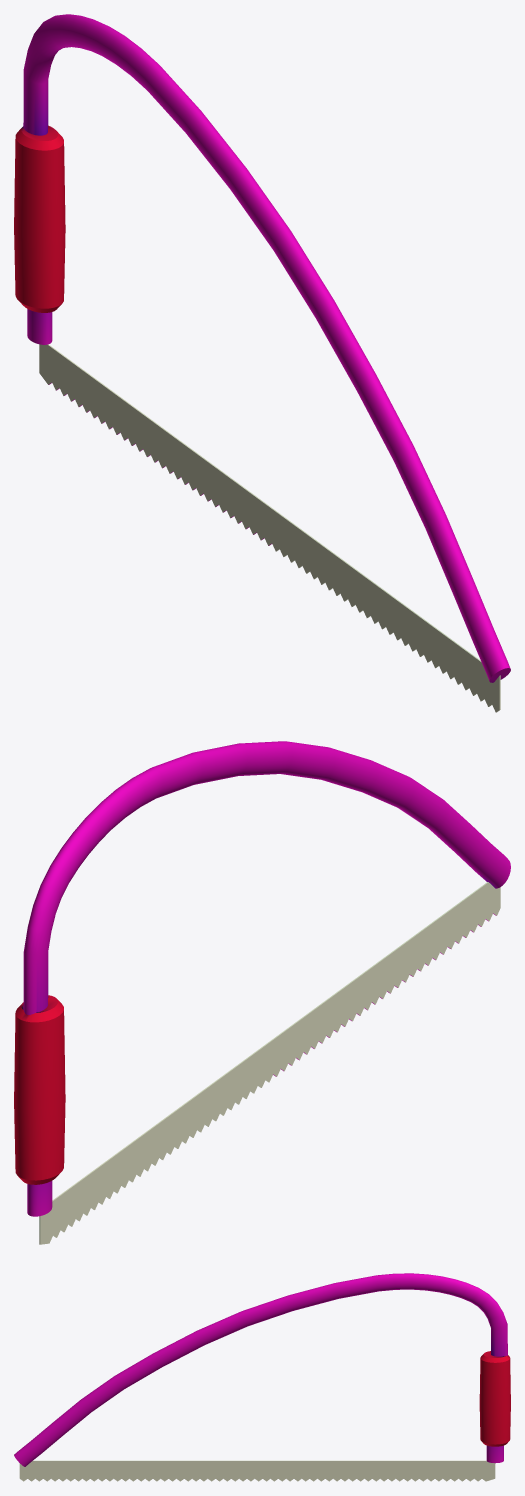
File: bow_saw.glb
The picture shows the model from 3 angles, top to bottom: view 1: azimuth 30°, elevation 25°; view 2: azimuth 150°, elevation 25°; view 3: azimuth 270°, elevation 25°; orthographic projection. The views are drawn at different scales.
Visible parts, largest first — view 1: bow_saw; view 2: bow_saw; view 3: bow_saw.
Part boxes in pixels (x1,y1,x2,y2): bow_saw: (14, 14, 510, 712); bow_saw: (14, 741, 510, 1244); bow_saw: (14, 1273, 510, 1481).
Size of the model in its own units: 0.032 by 0.2926 by 0.6344.
